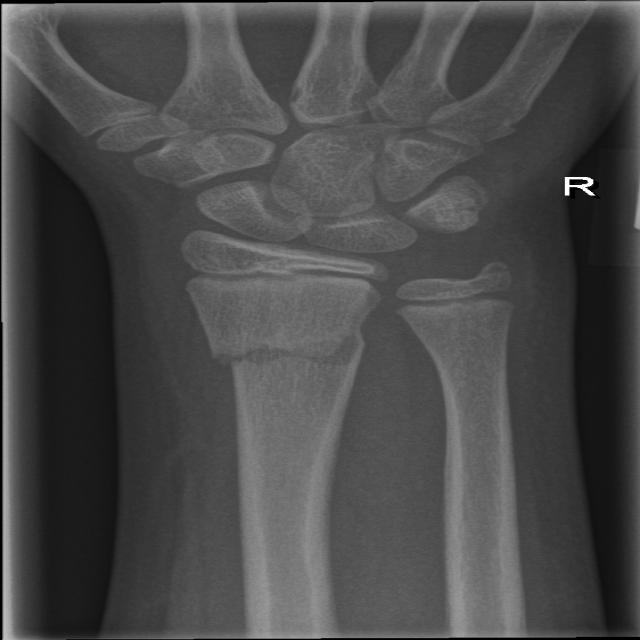radius fracture: (146, 287, 404, 522)
